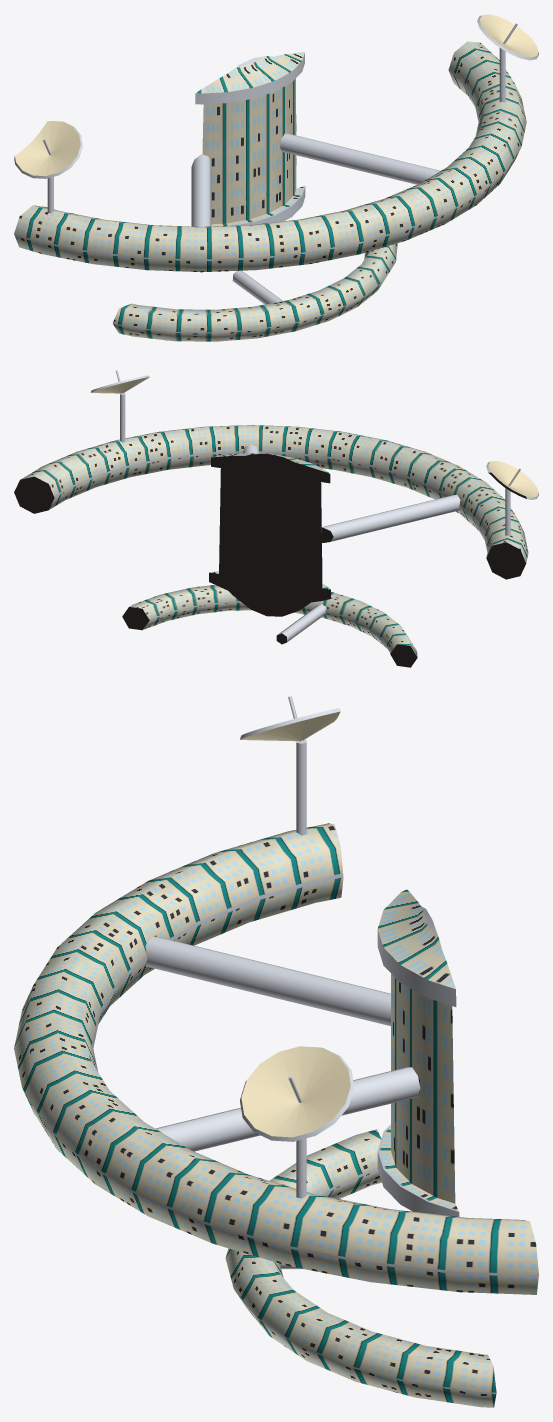
Rendered from research_station_debris3.obj.
3 views of the same model, one above another, from view 1: azimuth 30°, elevation 25°; view 2: azimuth 150°, elevation 25°; view 3: azimuth 270°, elevation 25° (orthographic). The views are drawn at different scales.
Visible parts, largest first — view 1: lab_ring, hub, lab_ring2, spoke, dish, spoke2, dish_mast; view 2: lab_ring, hub, lab_ring2, spoke, dish, spoke2, dish_mast; view 3: lab_ring, lab_ring2, hub, spoke, dish, dish_mast.
Boxes of the visible parts, x1,y1,x2,y2 form: lab_ring: (14,41,526,272); hub: (195,52,305,226); lab_ring2: (112,243,397,341); spoke: (191,133,440,226); dish: (14,14,538,178); spoke2: (232,270,282,304); dish_mast: (47,48,505,213); lab_ring: (14,425,528,579); hub: (209,453,330,616); lab_ring2: (122,585,417,667); spoke: (242,444,460,542); dish: (90,375,538,499); spoke2: (276,604,326,644); dish_mast: (120,392,510,535); lab_ring: (14,823,538,1294); lab_ring2: (225,1129,496,1407); hub: (377,889,459,1216); spoke: (145,936,420,1151); dish: (240,708,354,1141); dish_mast: (296,739,306,1198).
Size of the model in its own units: 155 by 66.63 by 79.4.
Materials: 4 (1 with a texture image).
